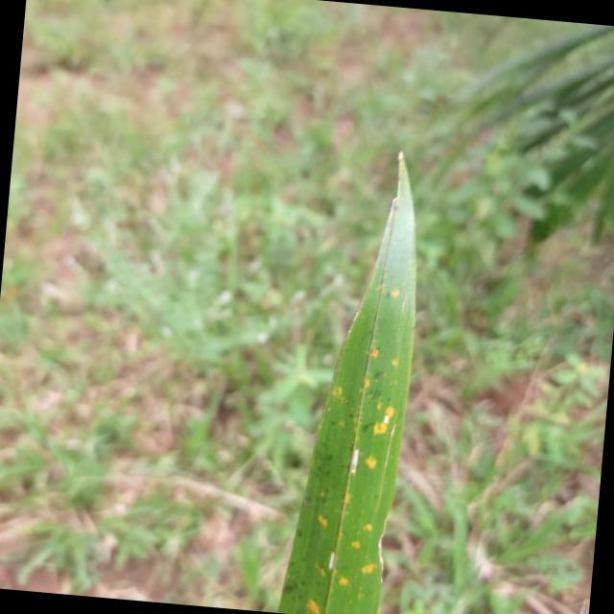Kalium: (275, 120, 417, 614)
